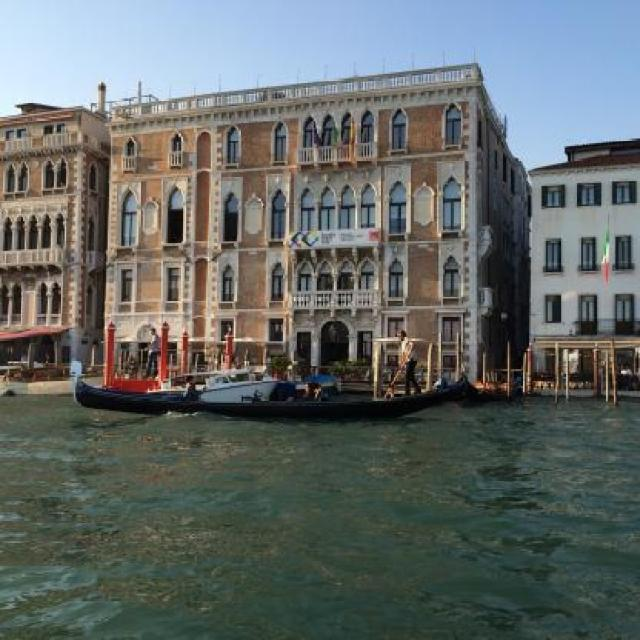ship: (71, 358, 466, 422), (144, 367, 278, 401), (0, 360, 114, 395), (458, 366, 522, 399)
